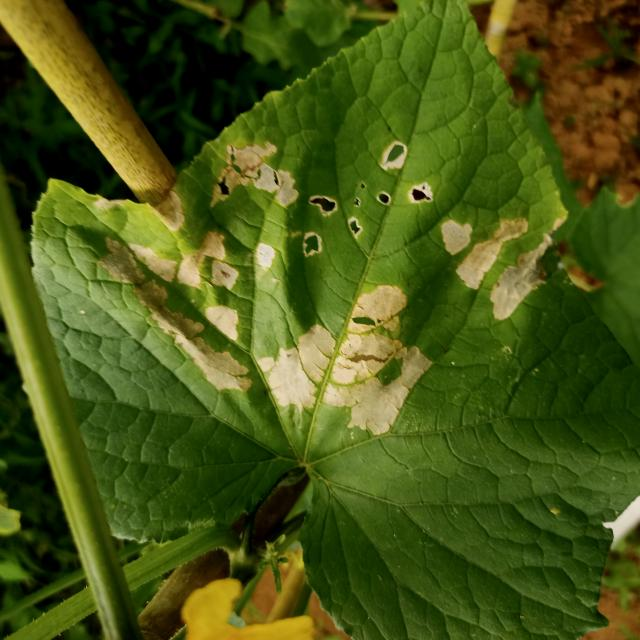disease_cucumber: (101, 137, 558, 436)
